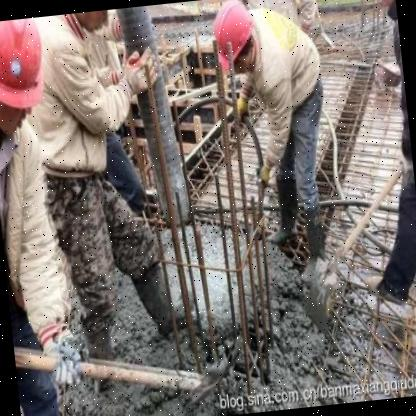capacete: (0, 17, 54, 139), (206, 0, 268, 88)
